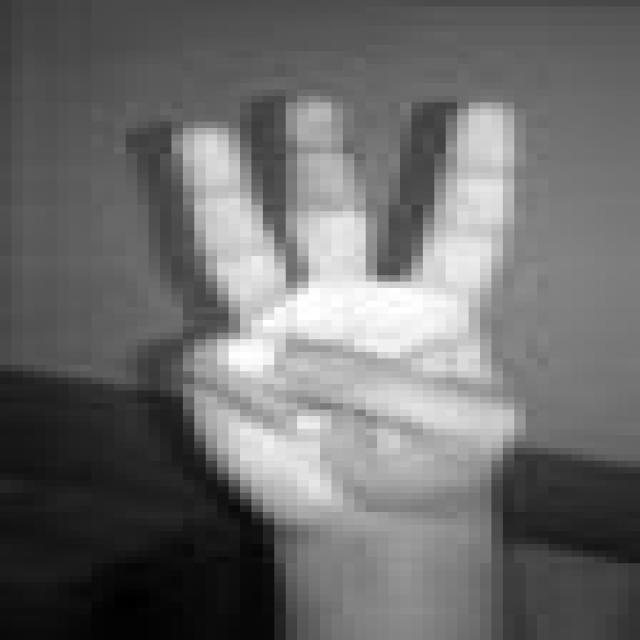W: (160, 90, 537, 506)
